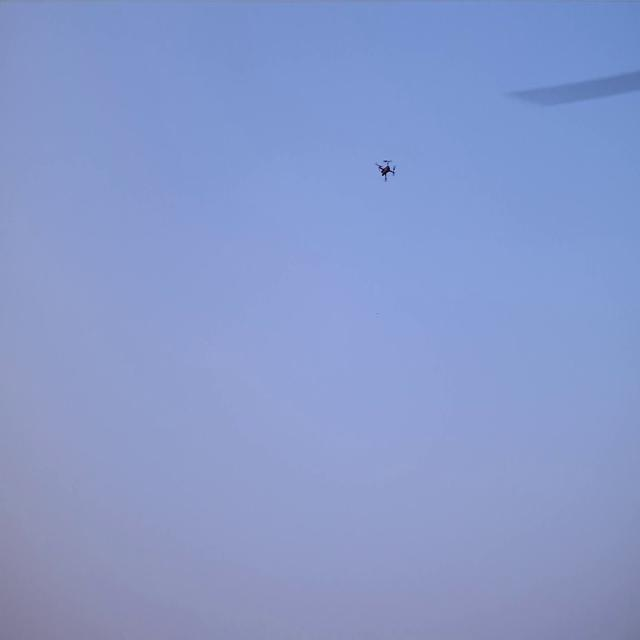UAV: (378, 160, 394, 182)
